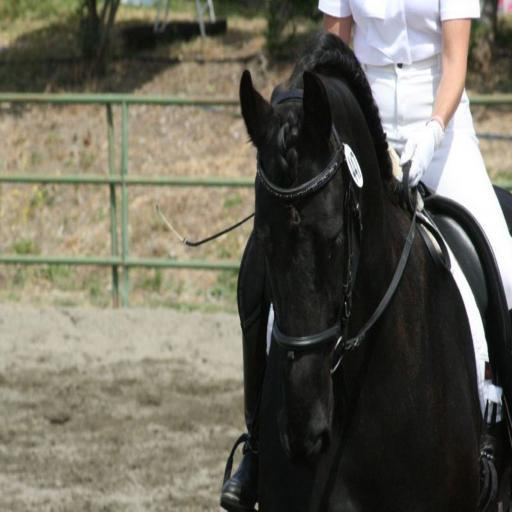horse: (234, 30, 512, 512)
